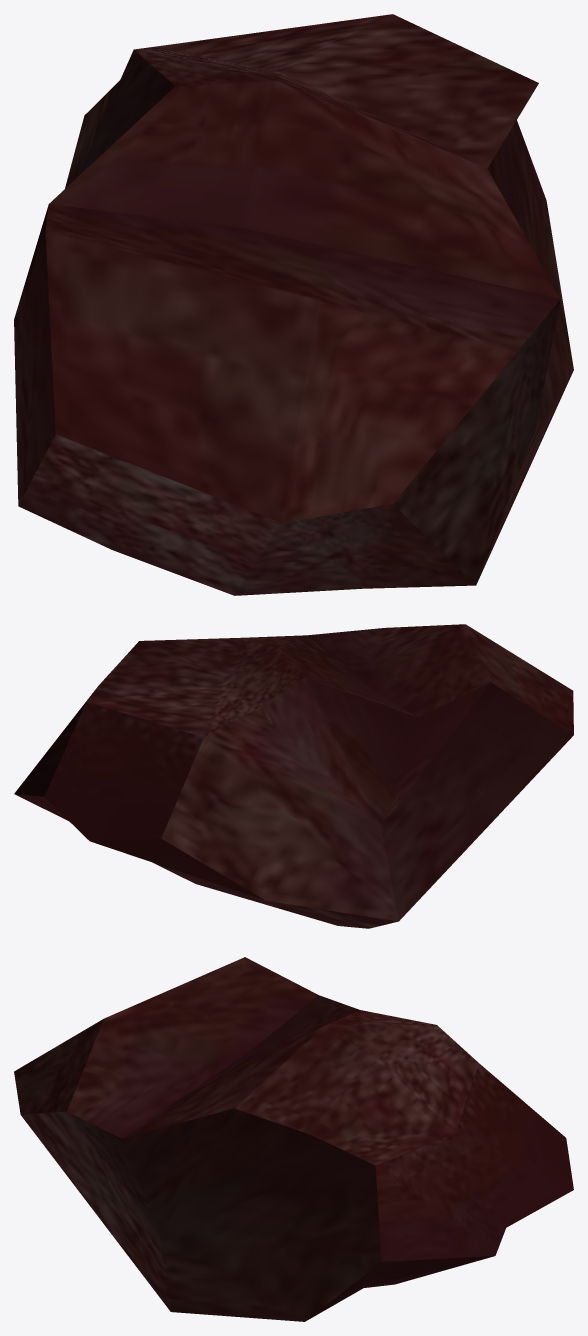
File: ceset parca2.fbx
3 views of the same model, one above another, from view 1: azimuth 30°, elevation 25°; view 2: azimuth 150°, elevation 25°; view 3: azimuth 270°, elevation 25° (orthographic). The views are drawn at different scales.
Parts seen in each view (by area): view 1: Cube; view 2: Cube; view 3: Cube.
Part boxes in pixels (left/top/right/bottom): Cube: left=14, top=14, right=573, bottom=595; Cube: left=14, top=624, right=573, bottom=928; Cube: left=14, top=957, right=573, bottom=1321.
Size of the model in its own units: 63.29 by 42.47 by 73.85.
Materials: 1 (1 with a texture image).
